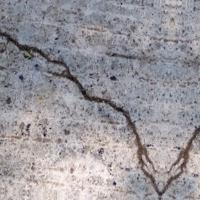crack: (0, 28, 198, 199)
